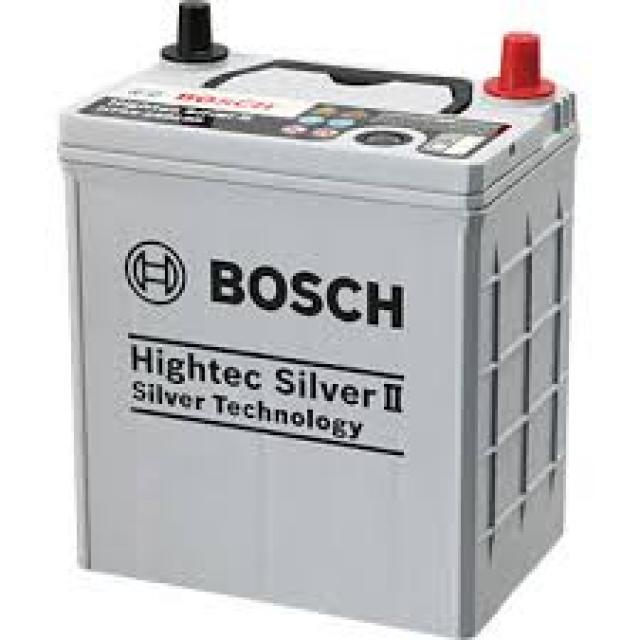hazard: (67, 12, 585, 639)
